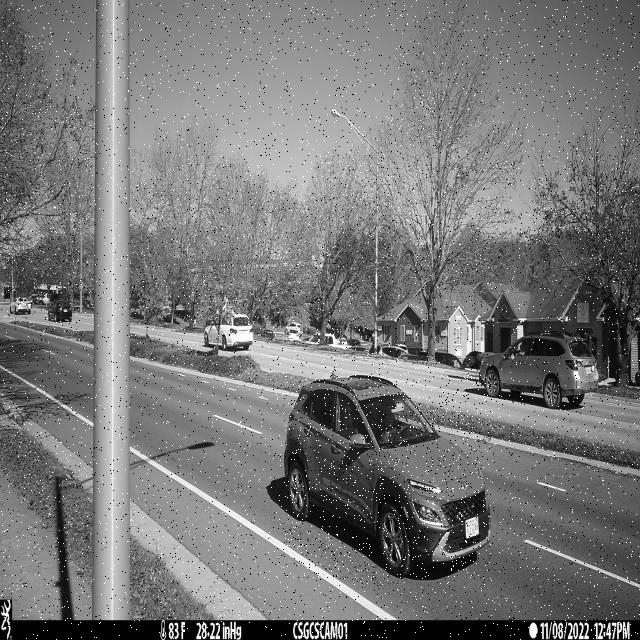SUV: (283, 375, 491, 579)
